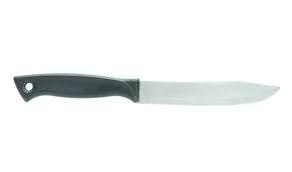Knife: (13, 72, 280, 105)
